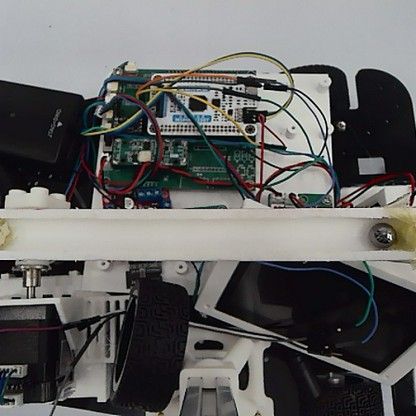ironball: (367, 219, 396, 249)
